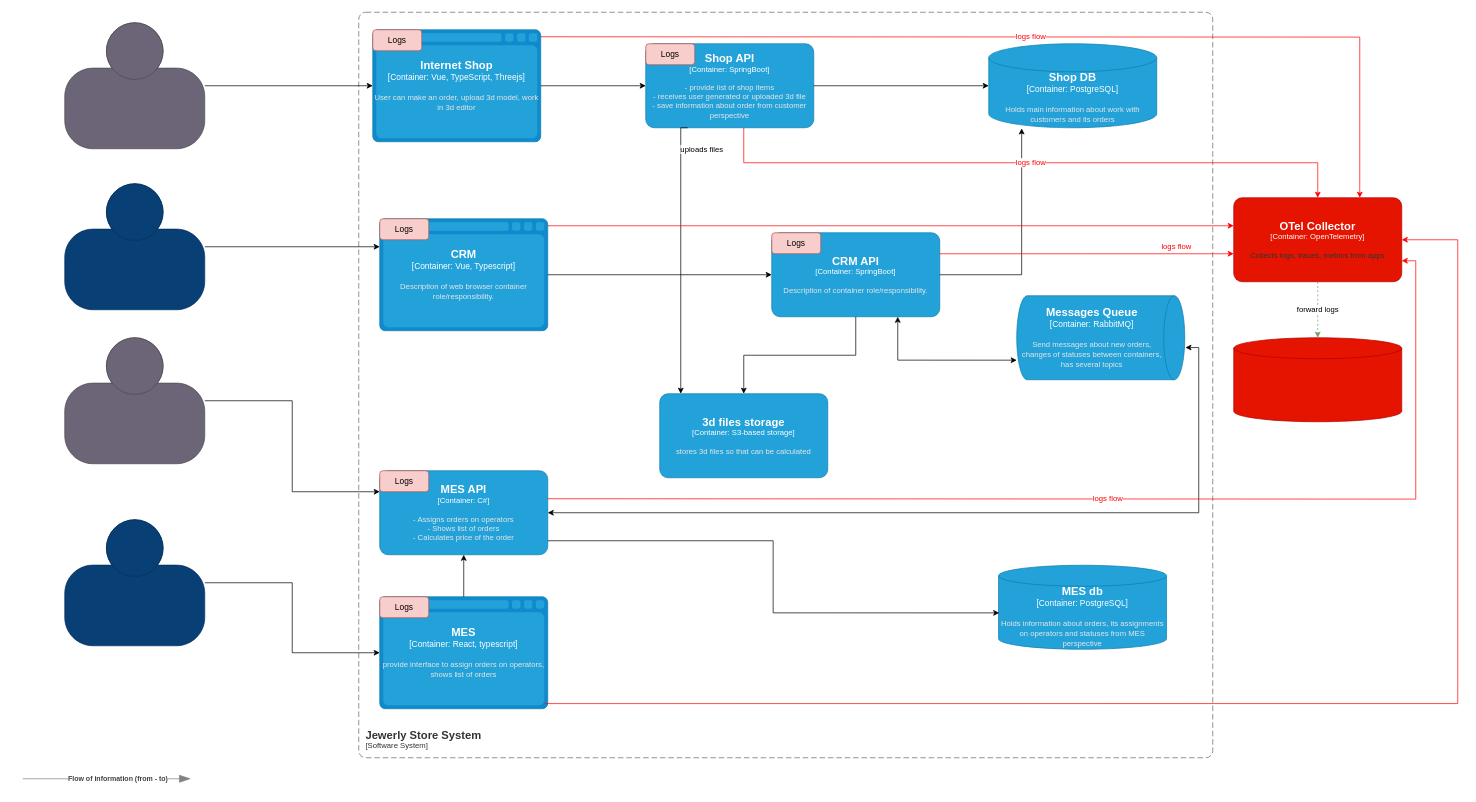
This 1476x802 diagram has some shape labels left out. Each missing label, with the centre of its shape:
API user [Person] Description of external person.: (x=134, y=400)
Central Log Storage [Container: OpenSearch] Stores and indexes logs for analysis: (x=1317, y=379)
Customer [Person] Description of external person.: (x=134, y=85)
Operator [Person] Takes order in work, manufactures jewerly: (x=134, y=582)
Seller [Person] Operates with order, confirms manufacturing for the user: (x=134, y=246)
